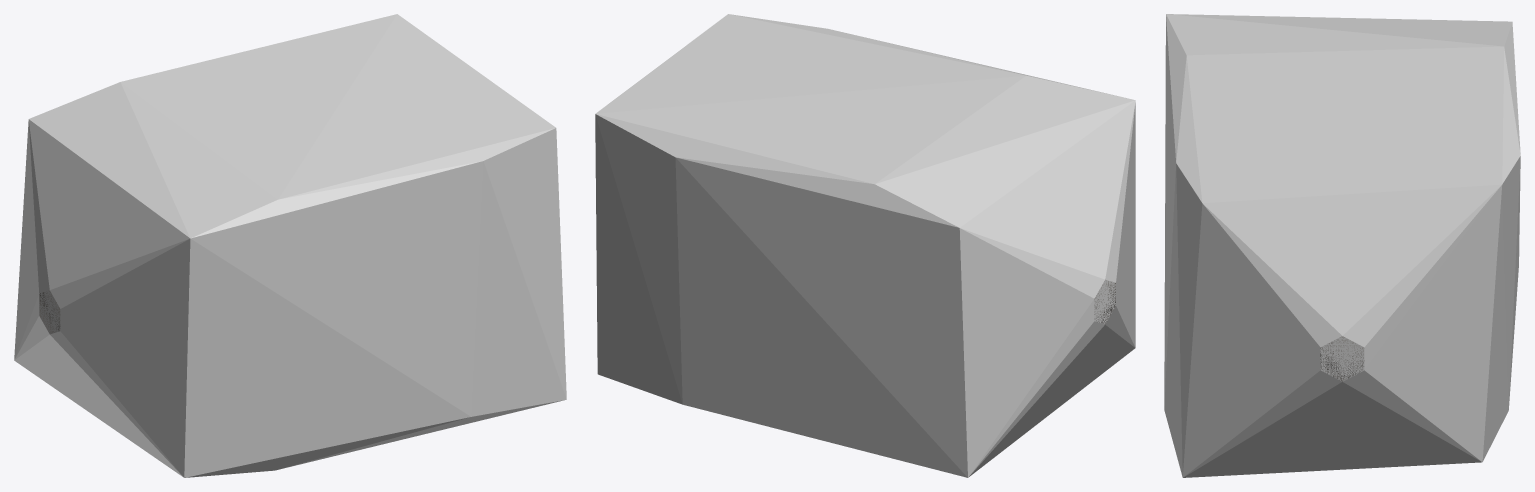
File: stakes.low.webp.glb
3 views of the same model, side by side, from view 1: azimuth 30°, elevation 25°; view 2: azimuth 150°, elevation 25°; view 3: azimuth 270°, elevation 25° (orthographic). The views are drawn at different scales.
Visible parts, largest first — view 1: COL; view 2: COL; view 3: COL, LOD1_body.
Part boxes in pixels (left/top/right/bottom): COL: left=14, top=14, right=566, bottom=477; COL: left=595, top=14, right=1135, bottom=477; COL: left=1164, top=14, right=1520, bottom=477; LOD1_body: left=1320, top=336, right=1364, bottom=381.
Size of the model in its own units: 2.3 by 1.25 by 1.41.
Materials: 1 (1 with a texture image).
